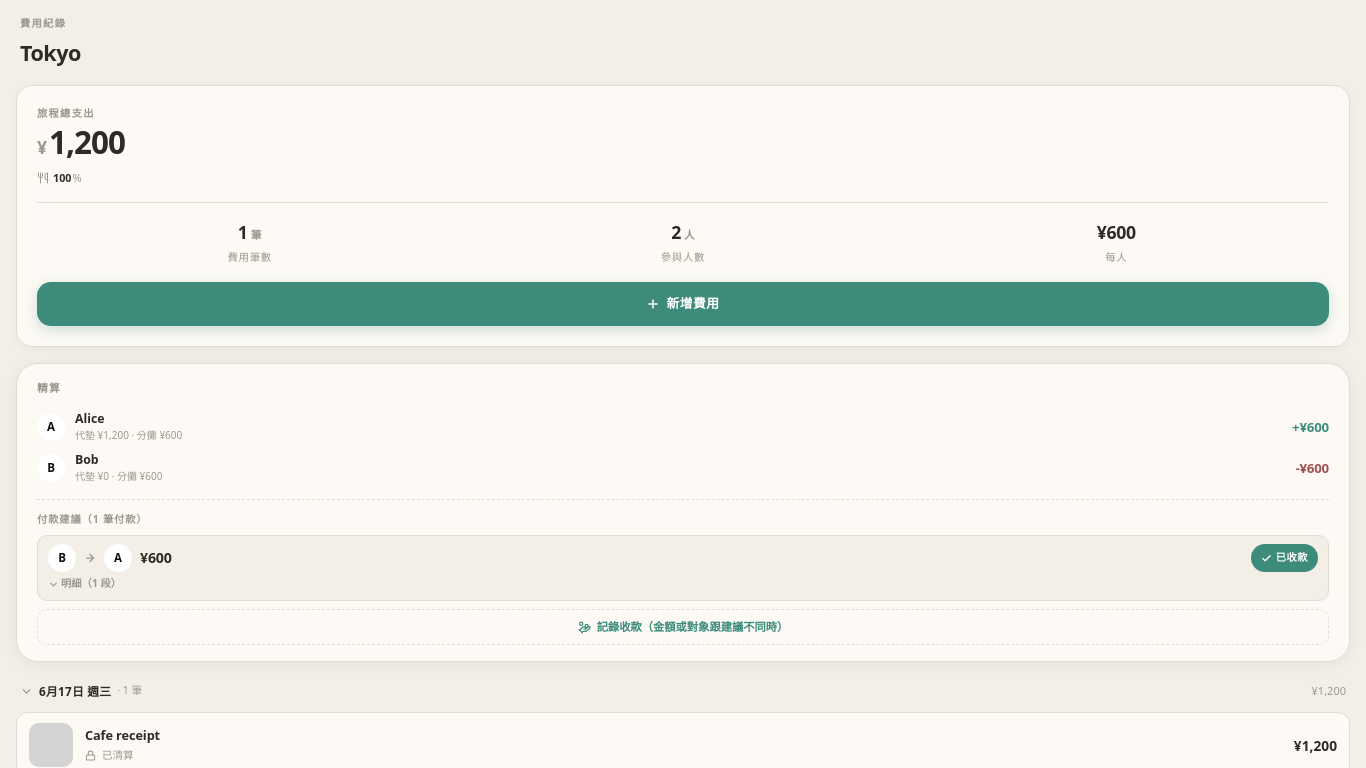
ExpensePage read-first expense flow › does not offer edit from detail for a locked expense when the viewer is not owner
This screenshot has width=1366, height=768.
What coordinates should you click on to do the following:
click the text "Cafe receipt"
I would click on:
 (123, 735)
Its box is [85,726,160,744].
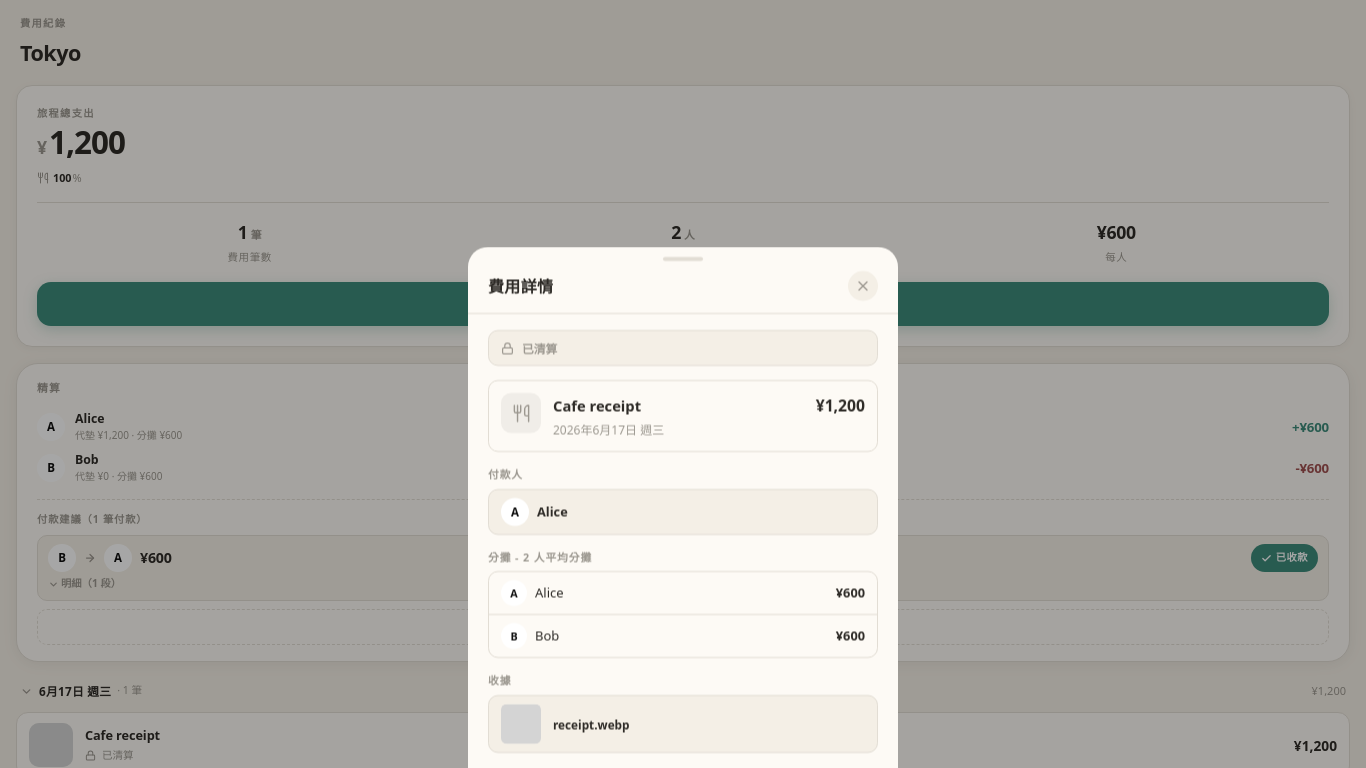
Check: the dialog "費用詳情" is shown, box [468,246,898,767]
Check: the text "已清算" is shown, box [522,338,557,356]
